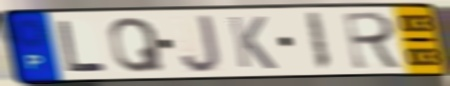I: (303, 10, 333, 73)
J: (178, 13, 223, 75)
K: (225, 14, 279, 72)
L: (54, 19, 109, 74)
Q: (107, 15, 168, 75)
R: (341, 10, 406, 72)
